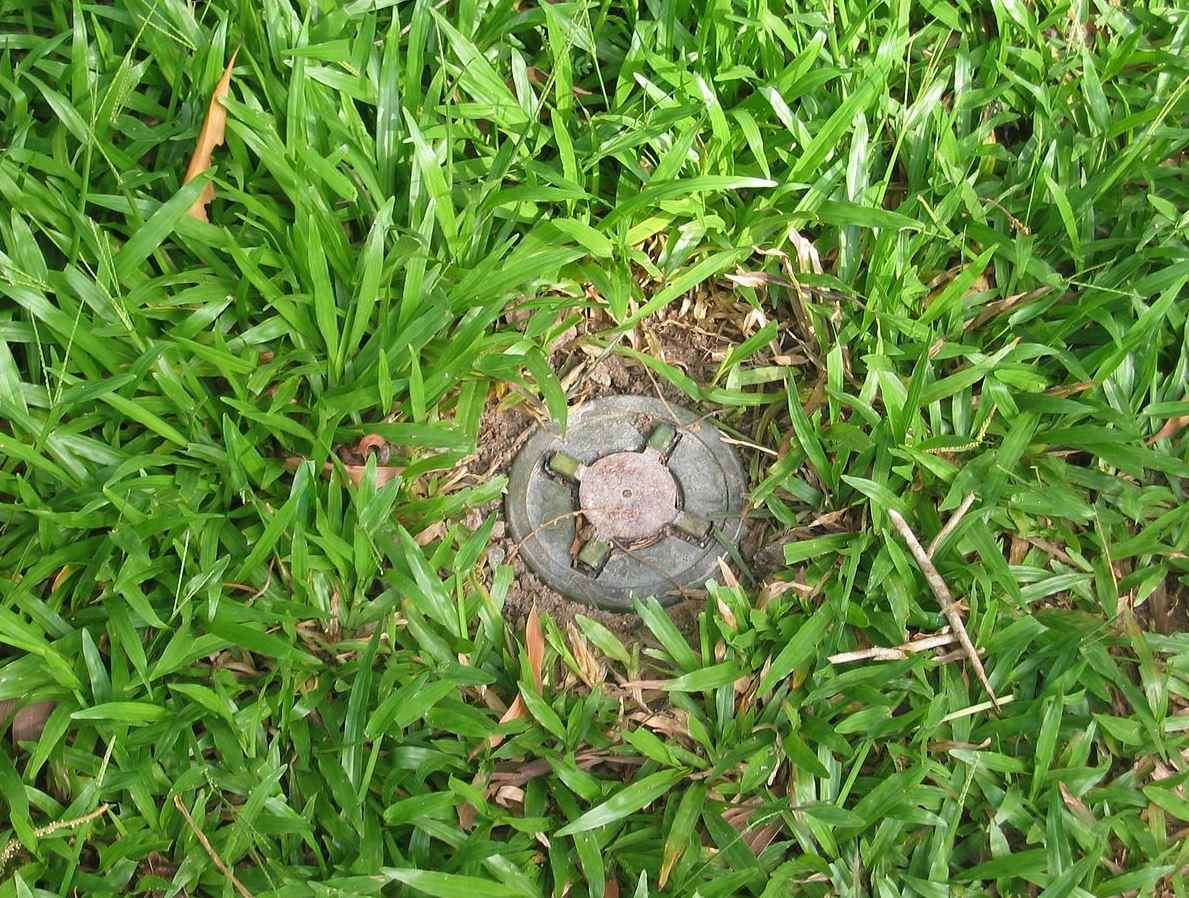pmn: (496, 385, 763, 620)
